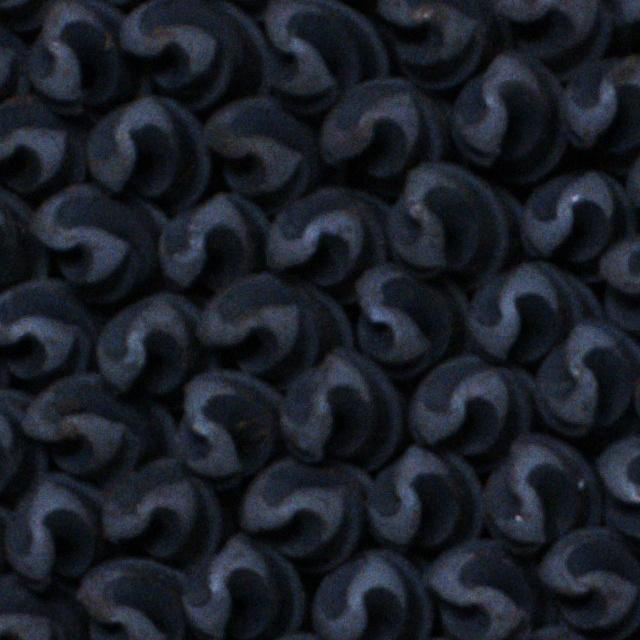tool_b: (196, 271, 352, 386), (382, 162, 520, 288), (27, 184, 167, 299), (120, 0, 270, 106), (20, 374, 175, 476), (451, 54, 570, 185), (280, 350, 406, 470), (236, 458, 371, 570), (260, 3, 393, 113), (480, 435, 602, 552), (24, 2, 148, 117), (266, 186, 391, 297), (316, 79, 448, 183), (468, 260, 604, 360), (420, 538, 553, 640), (86, 96, 212, 203), (351, 262, 470, 373), (182, 535, 307, 640), (203, 96, 322, 206), (519, 170, 636, 280), (534, 318, 640, 438), (171, 371, 281, 485), (366, 0, 510, 87), (98, 458, 222, 558), (367, 445, 485, 550), (97, 294, 215, 396), (536, 526, 640, 639), (4, 473, 104, 587), (310, 548, 432, 639), (156, 194, 269, 290), (1, 281, 103, 383), (410, 353, 514, 453), (488, 0, 618, 76), (76, 559, 189, 640), (562, 52, 640, 168), (1, 95, 88, 194), (0, 182, 49, 308), (0, 575, 87, 640), (595, 434, 640, 556), (0, 388, 46, 504), (599, 233, 640, 339), (0, 2, 27, 115), (0, 0, 73, 30), (612, 0, 639, 66)
